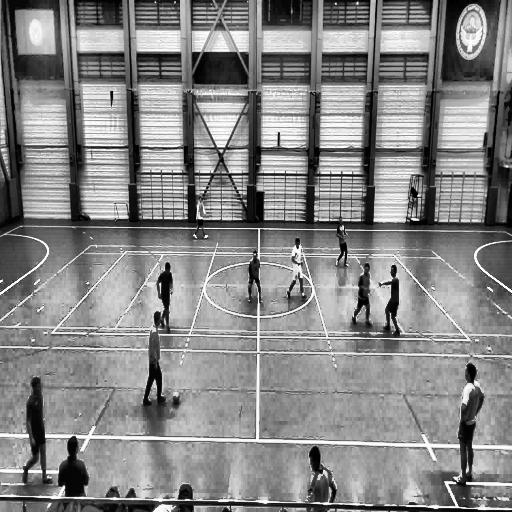ball: (172, 391, 180, 404)
player: (453, 365, 484, 485), (21, 378, 53, 482), (143, 310, 168, 405), (306, 447, 336, 512), (380, 264, 399, 336), (353, 262, 371, 326), (288, 240, 306, 302), (157, 261, 173, 330), (248, 249, 260, 303), (193, 198, 210, 236), (335, 219, 347, 267)
